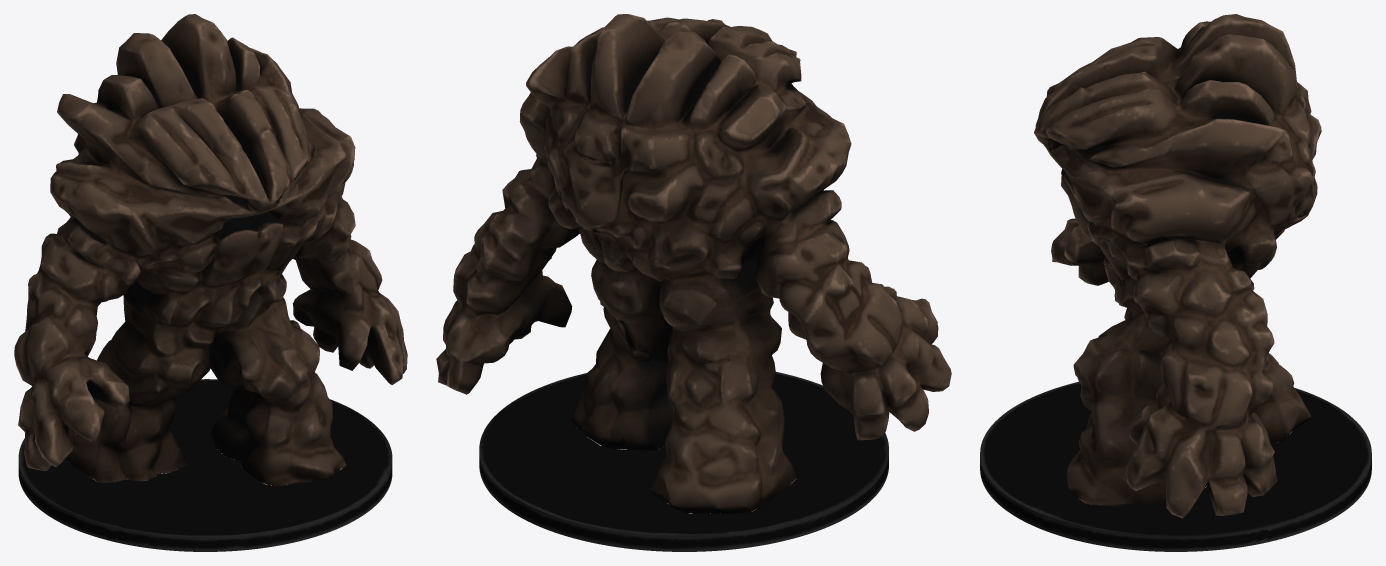
File: MZ4250 - Earth Elemental.glb
3 views of the same model, side by side, from view 1: azimuth 30°, elevation 25°; view 2: azimuth 150°, elevation 25°; view 3: azimuth 270°, elevation 25° (orthographic). The views are drawn at different scales.
Parts seen in each view (by area): view 1: Earth_Elemental_Updated.001, Earth_Elemental_Updated.003; view 2: Earth_Elemental_Updated.001, Earth_Elemental_Updated.003; view 3: Earth_Elemental_Updated.001, Earth_Elemental_Updated.003.
Part boxes in pixels (x1,y1,x2,y2): Earth_Elemental_Updated.001: [14, 14, 407, 485]; Earth_Elemental_Updated.003: [18, 294, 392, 551]; Earth_Elemental_Updated.001: [436, 14, 951, 513]; Earth_Elemental_Updated.003: [479, 284, 888, 551]; Earth_Elemental_Updated.001: [1034, 14, 1321, 518]; Earth_Elemental_Updated.003: [980, 382, 1371, 551].
Size of the model in its own units: 3.93 by 3.96 by 3.16.
1 material, 1 textured.
